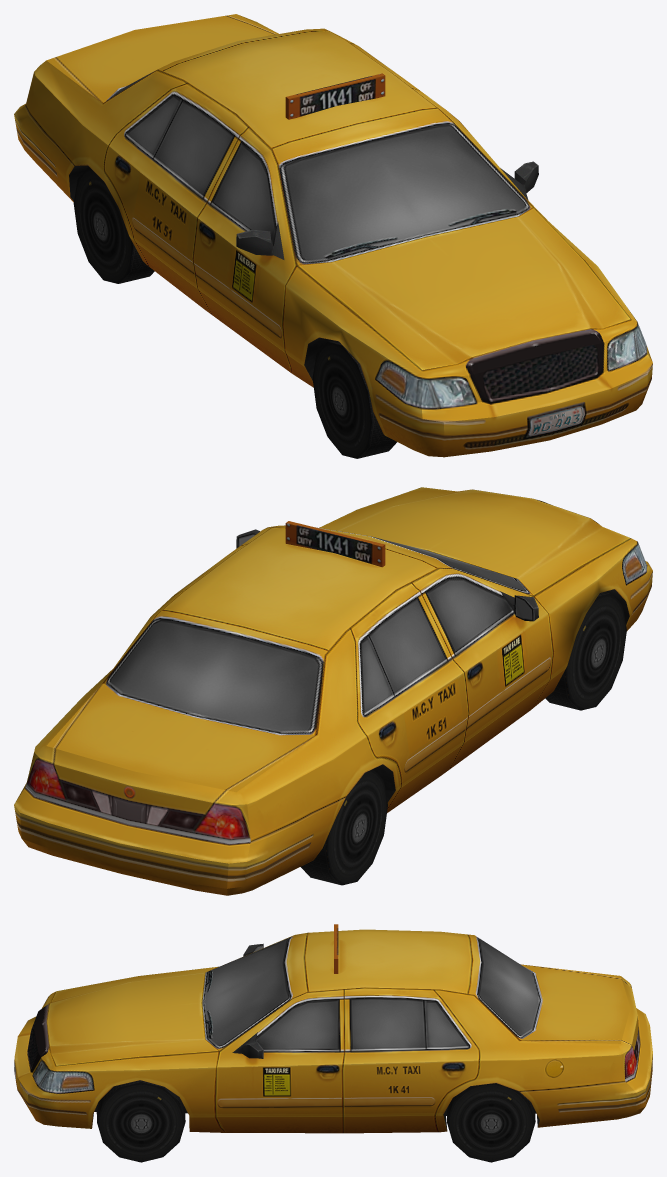
Rendered from Taxi.fbx.
3 renders of one model, top to bottom at view 1: azimuth 30°, elevation 25°; view 2: azimuth 150°, elevation 25°; view 3: azimuth 270°, elevation 25°, orthographic. The views are drawn at different scales.
Parts seen in each view (by area): view 1: Taxi, Taxi_Wheel_Front_R, Taxi_Wheel_Rear_R; view 2: Taxi, Taxi_Wheel_Front_R, Taxi_Wheel_Rear_R; view 3: Taxi, Taxi_Wheel_Front_L, Taxi_Wheel_Rear_L.
Boxes of the visible parts, x1,y1,x2,y2 form: Taxi: (14,14,652,457); Taxi_Wheel_Front_R: (312,340,396,458); Taxi_Wheel_Rear_R: (73,167,154,283); Taxi: (14,487,652,895); Taxi_Wheel_Front_R: (545,592,626,710); Taxi_Wheel_Rear_R: (300,769,387,885); Taxi: (14,924,652,1133); Taxi_Wheel_Front_L: (96,1080,185,1162); Taxi_Wheel_Rear_L: (446,1083,535,1162).
Size of the model in its own units: 2.51 by 1.92 by 6.32.
